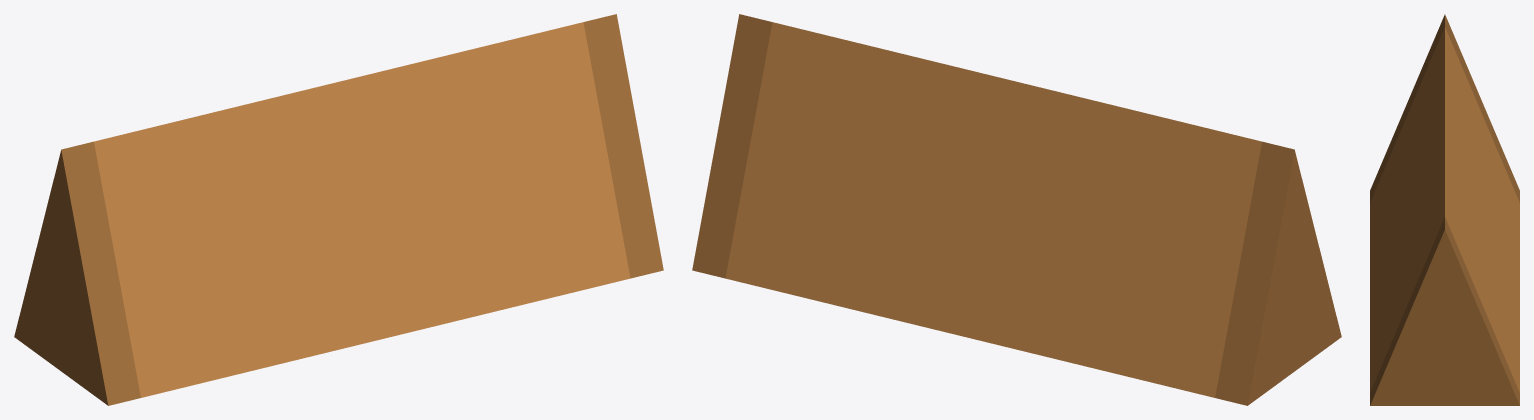
The model's file is score-roof.fbx.
3 renders of one model, left to right at view 1: azimuth 30°, elevation 25°; view 2: azimuth 150°, elevation 25°; view 3: azimuth 270°, elevation 25°, orthographic. The views are drawn at different scales.
Parts seen in each view (by area): view 1: roof (×3); view 2: roof (×3); view 3: roof (×3).
Part boxes in pixels (bbox=[...]): roof (×3): bbox=[14, 14, 663, 405]; roof (×3): bbox=[692, 14, 1341, 405]; roof (×3): bbox=[1370, 14, 1519, 405].
Bounding box in the file's own units: 34.04 × 13 × 10.
